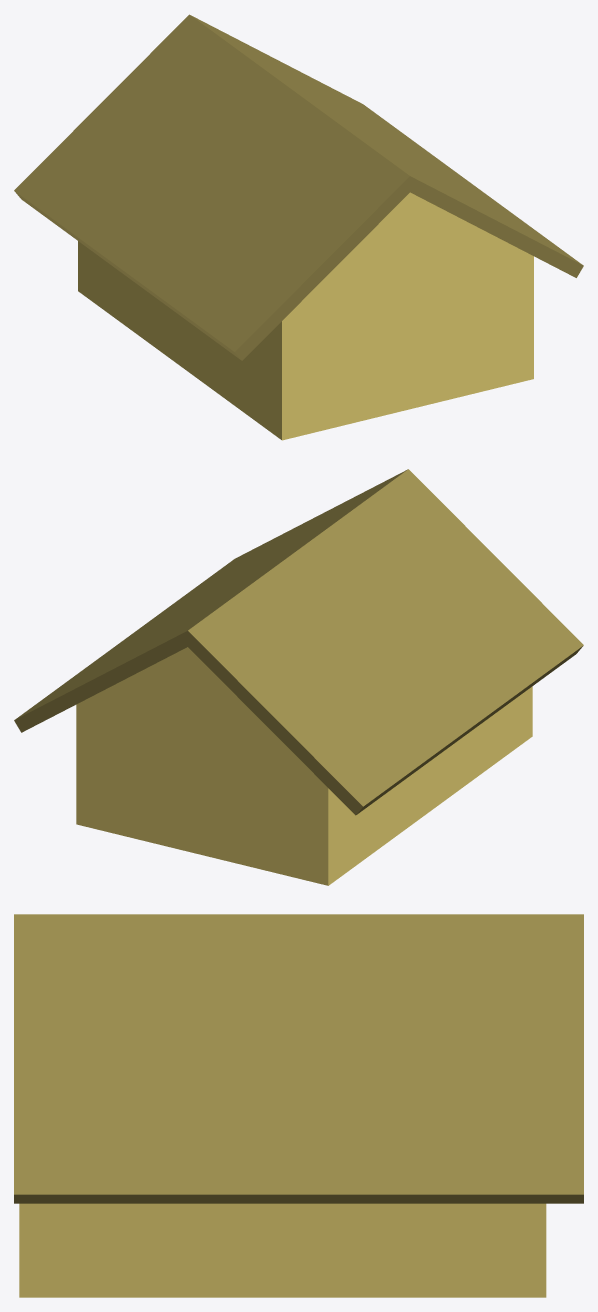
Rendered from result.glb.
3 views of the same model, one above another, from view 1: azimuth 30°, elevation 25°; view 2: azimuth 150°, elevation 25°; view 3: azimuth 270°, elevation 25° (orthographic). The views are drawn at different scales.
Visible parts, largest first — view 1: 32cf1bae-c6e2-462c-beea-bd227aa8d649__undefined (×2), 94b2c3ef-7efa-4fd3-9fde-ad8ffcfcf8f3__undefined; view 2: 32cf1bae-c6e2-462c-beea-bd227aa8d649__undefined (×2), 94b2c3ef-7efa-4fd3-9fde-ad8ffcfcf8f3__undefined; view 3: 32cf1bae-c6e2-462c-beea-bd227aa8d649__undefined, 94b2c3ef-7efa-4fd3-9fde-ad8ffcfcf8f3__undefined.
Part boxes in pixels (x1,y1,x2,y2): 32cf1bae-c6e2-462c-beea-bd227aa8d649__undefined (×2): [14, 14, 583, 360]; 94b2c3ef-7efa-4fd3-9fde-ad8ffcfcf8f3__undefined: [78, 192, 533, 440]; 32cf1bae-c6e2-462c-beea-bd227aa8d649__undefined (×2): [14, 469, 583, 815]; 94b2c3ef-7efa-4fd3-9fde-ad8ffcfcf8f3__undefined: [76, 647, 532, 885]; 32cf1bae-c6e2-462c-beea-bd227aa8d649__undefined: [14, 914, 583, 1203]; 94b2c3ef-7efa-4fd3-9fde-ad8ffcfcf8f3__undefined: [19, 1203, 546, 1297].
Bounding box in the file's own units: 691 × 445 × 757.
